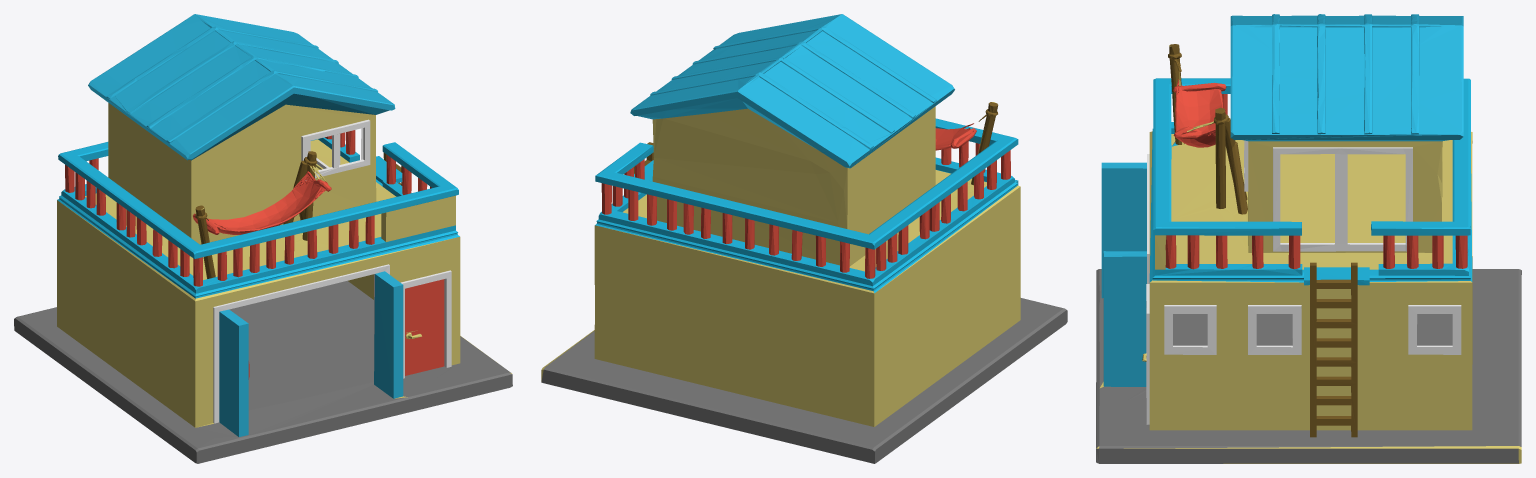
The model's file is house1.glb.
3 views of the same model, side by side, from view 1: azimuth 30°, elevation 25°; view 2: azimuth 150°, elevation 25°; view 3: azimuth 270°, elevation 25° (orthographic). The views are drawn at different scales.
Visible parts, largest first — view 1: house1; view 2: house1; view 3: house1.
Boxes of the visible parts, left/top/right/bottom form: house1: left=14, top=14, right=512, bottom=463; house1: left=541, top=14, right=1067, bottom=463; house1: left=1096, top=14, right=1521, bottom=463.
Size of the model in its own units: 5 by 4.54 by 5.
